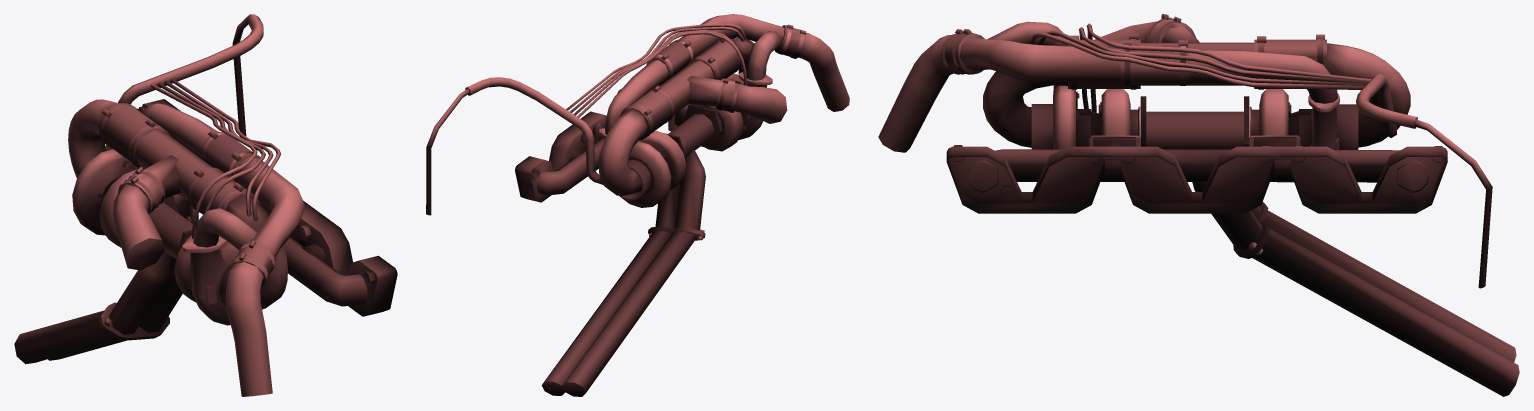
The model's file is JZ_ExhaustManifoldTurbo1.fbx.
The picture shows the model from 3 angles, left to right: view 1: azimuth 30°, elevation 25°; view 2: azimuth 150°, elevation 25°; view 3: azimuth 270°, elevation 25°; orthographic projection. The views are drawn at different scales.
Parts seen in each view (by area): view 1: ExhaustManifoldTurbo1; view 2: ExhaustManifoldTurbo1; view 3: ExhaustManifoldTurbo1.
Boxes of the visible parts, x1=… form: ExhaustManifoldTurbo1: x1=14, y1=14, x2=397, y2=396; ExhaustManifoldTurbo1: x1=426, y1=14, x2=849, y2=396; ExhaustManifoldTurbo1: x1=878, y1=14, x2=1519, y2=396.
Size of the model in its own units: 51.08 by 55.9 by 89.78.
